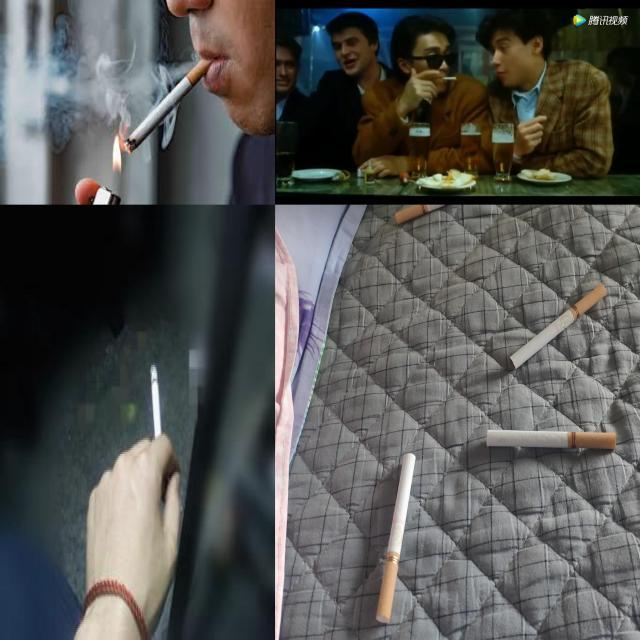cigarette: (125, 56, 213, 154), (510, 284, 608, 370), (376, 452, 416, 624), (486, 430, 617, 450), (142, 347, 166, 454), (394, 204, 486, 224), (442, 76, 458, 81)
